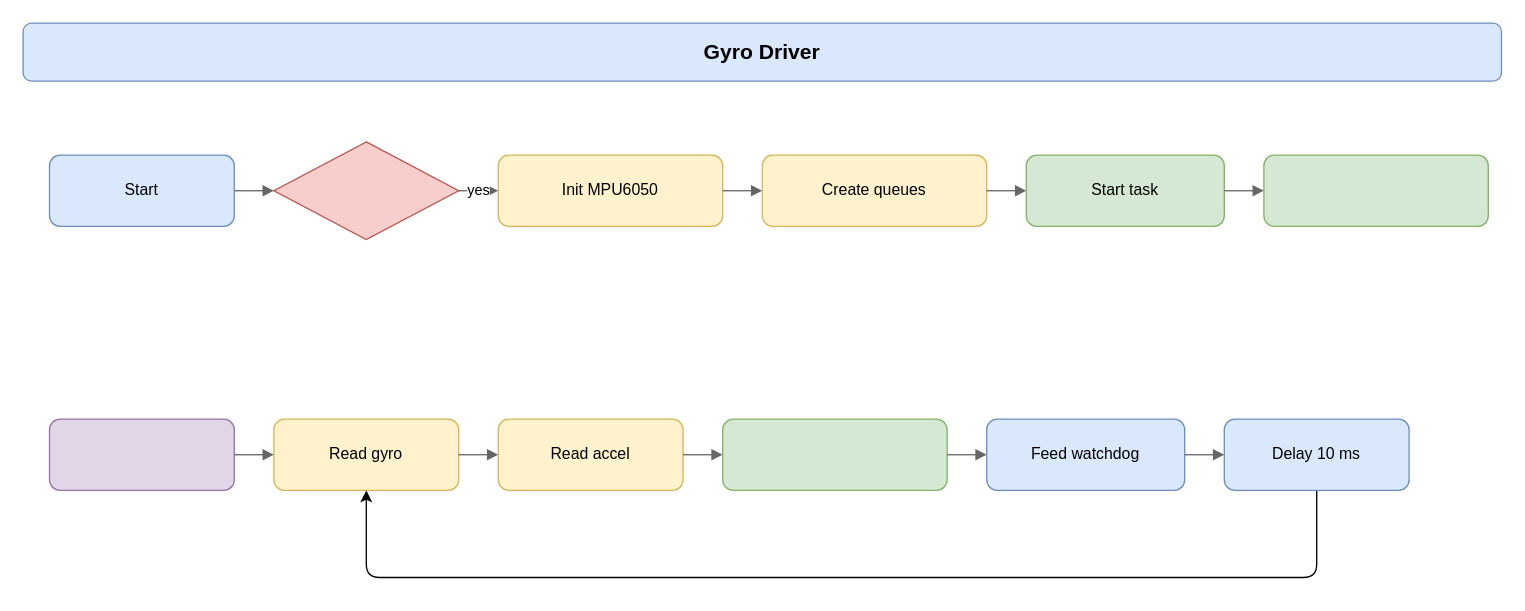
This 1525x611 diagram has some shape labels left out. Here are the shapes that lost their labels. From the top down, the centre of each, then its label:
[366,190]: Check I2C
[1375,190]: Register watchdog
[141,454]: Task loop
[834,454]: Publish IMU data
